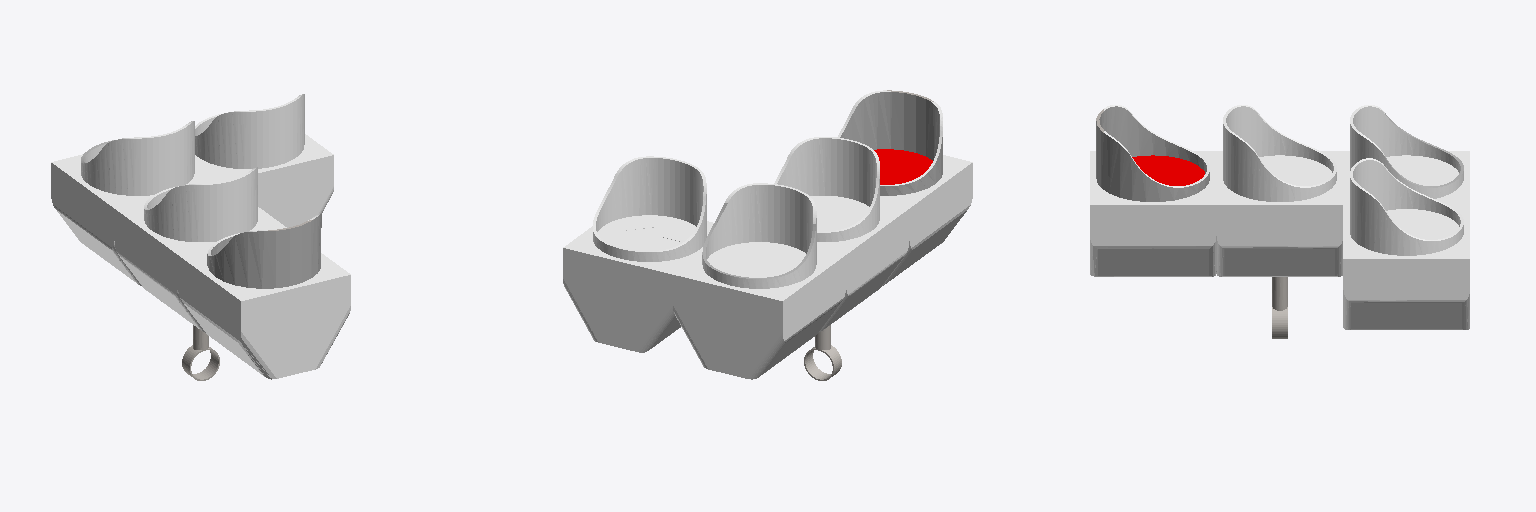
The model's file is svetofor_3_1_pravo.obj.
The picture shows the model from 3 angles: view 1: azimuth 30°, elevation 25°; view 2: azimuth 150°, elevation 25°; view 3: azimuth 270°, elevation 25°; orthographic projection.
Parts seen in each view (by area): view 1: ________0, ________2, ________3, ________4, ________1; view 2: ________3, ________4, ________2, ________0, ________1; view 3: ________0, ________4, ________2, ________3, ________1.
Boxes of the visible parts, x1,y1,x2,y2 form: ________0: [178, 214, 350, 379]; ________2: [114, 167, 286, 332]; ________3: [51, 121, 223, 285]; ________4: [195, 94, 333, 227]; ________1: [182, 325, 219, 380]; ________3: [673, 183, 845, 379]; ________4: [563, 156, 713, 352]; ________2: [774, 137, 909, 331]; ________0: [837, 90, 972, 285]; ________1: [804, 325, 841, 380]; ________0: [1090, 105, 1216, 276]; ________4: [1343, 158, 1469, 329]; ________2: [1217, 105, 1342, 276]; ________3: [1343, 105, 1469, 204]; ________1: [1272, 277, 1287, 338].
Bounding box in the file's own units: 0.016 × 0.0151 × 0.024.